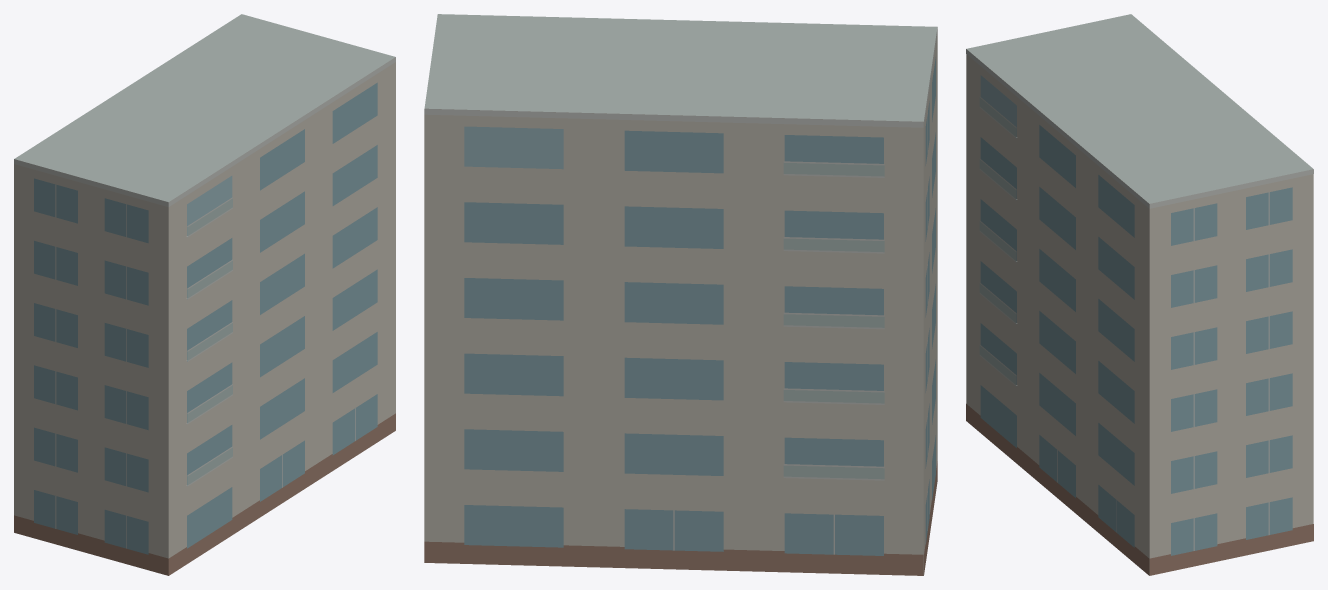
File: survey-upis-32704033.glb
The picture shows the model from 3 angles, left to right: view 1: azimuth 30°, elevation 25°; view 2: azimuth 150°, elevation 25°; view 3: azimuth 270°, elevation 25°; orthographic projection. The views are drawn at different scales.
Visible parts, largest first — view 1: survey-upis-32704033.tmp; view 2: survey-upis-32704033.tmp; view 3: survey-upis-32704033.tmp.
Part boxes in pixels (<box>): survey-upis-32704033.tmp: <box>14,14,395,575</box>; survey-upis-32704033.tmp: <box>424,14,937,575</box>; survey-upis-32704033.tmp: <box>966,14,1313,575</box>.
Bounding box in the file's own units: 20.04 × 18.3 × 15.51.
